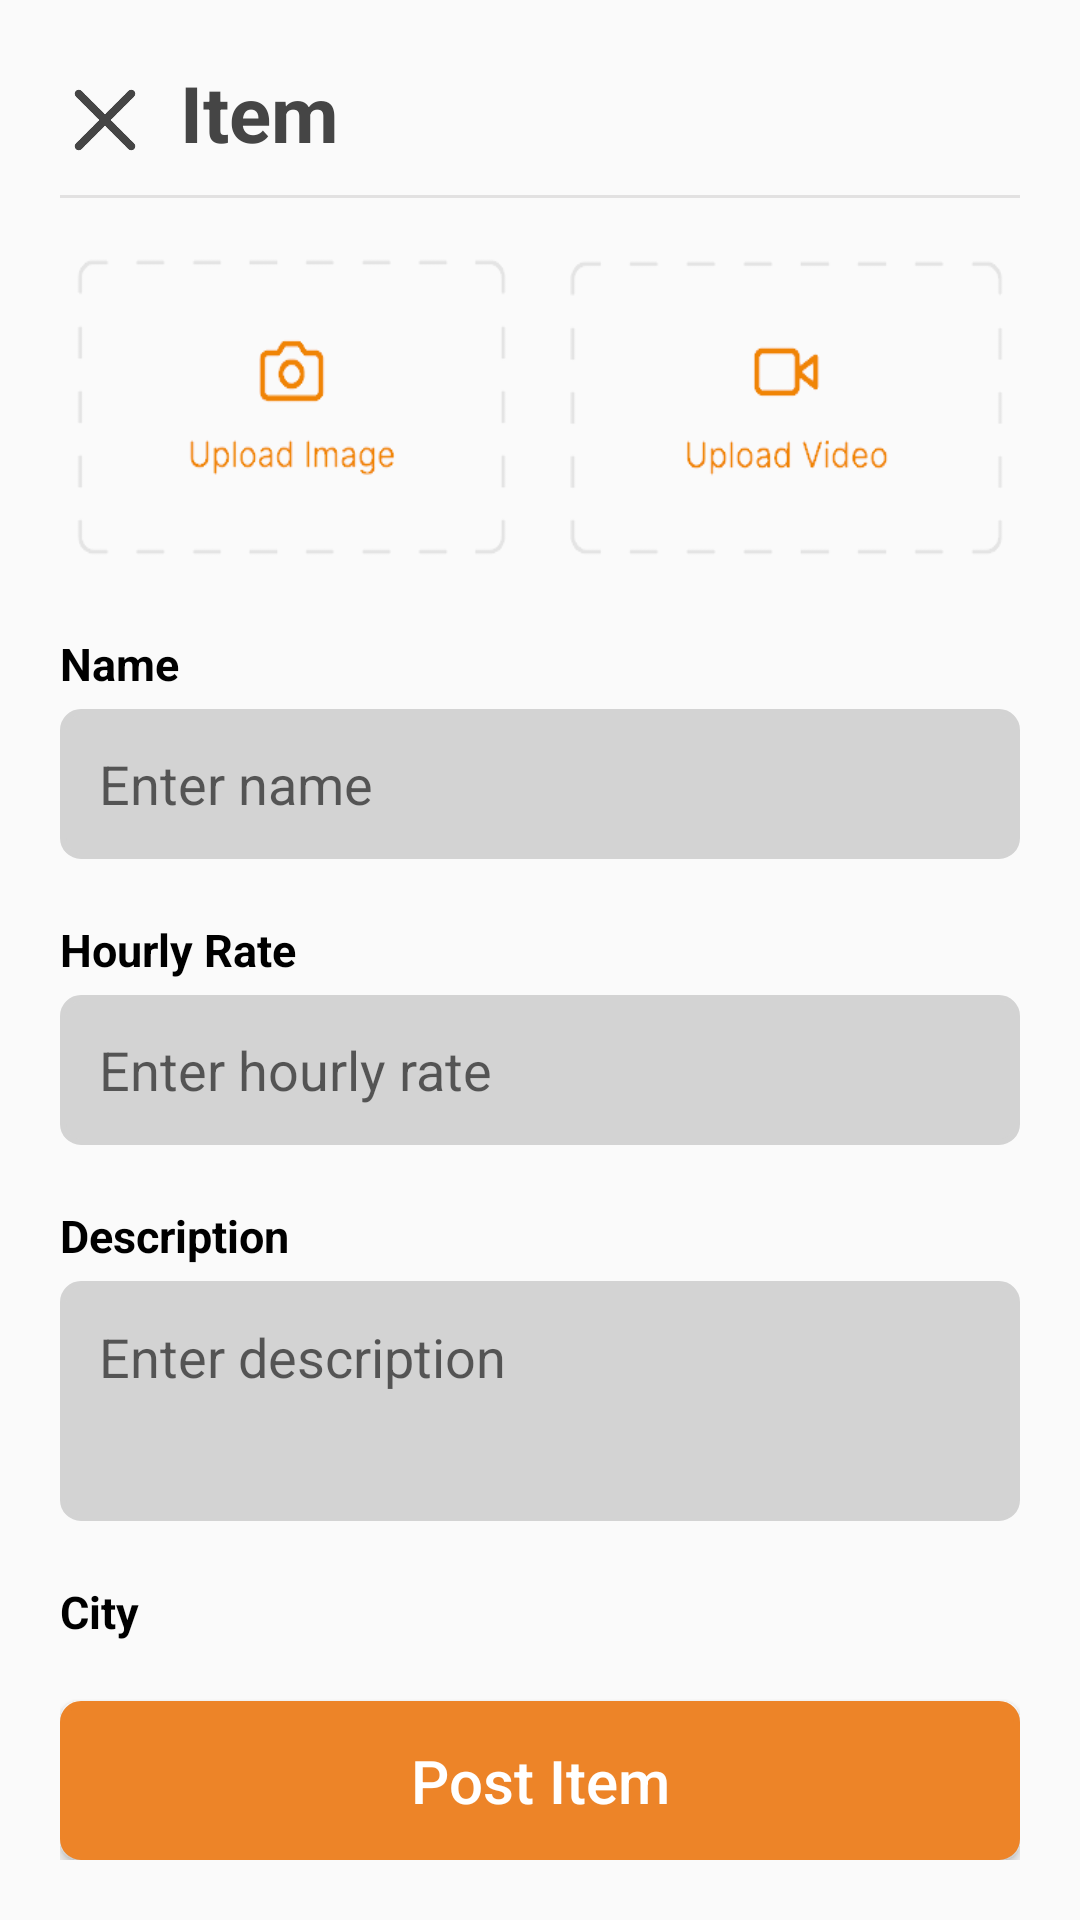

Locate icon controls on the screen. Image size 1080px x 1920px, boxes as BBox(x1, y1, x2, y2).
cross: BBox(74, 89, 136, 151)
